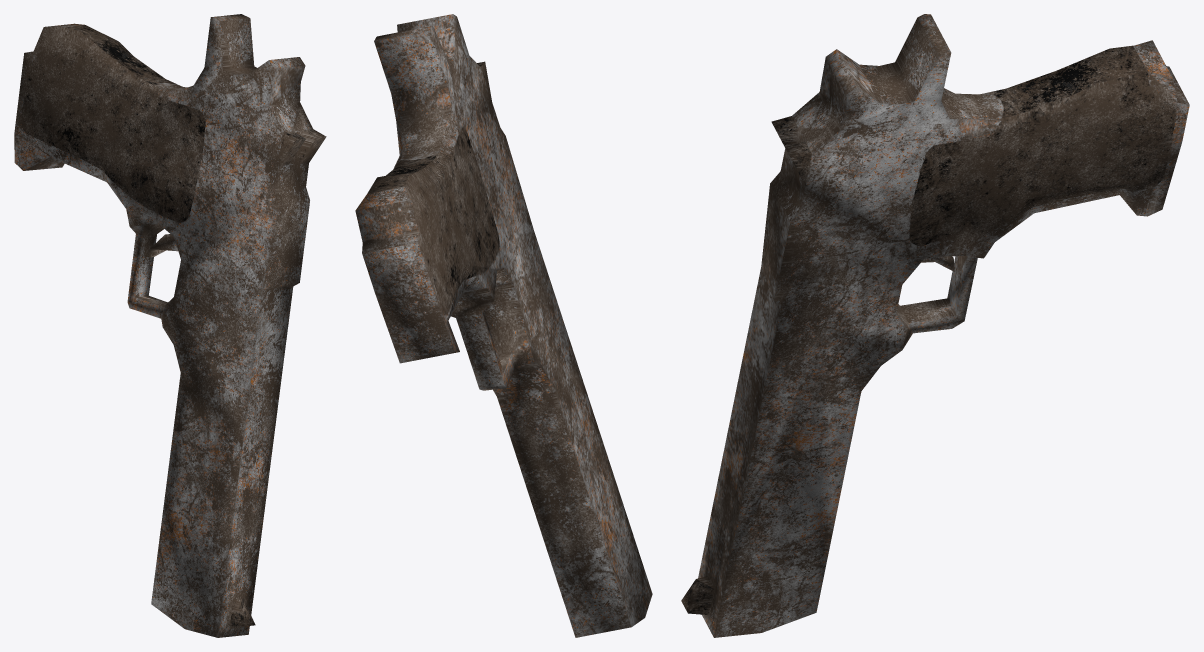
File: Anim_disparar_pistola_objetos.0033.obj
The picture shows the model from 3 angles, left to right: view 1: azimuth 30°, elevation 25°; view 2: azimuth 150°, elevation 25°; view 3: azimuth 270°, elevation 25°; orthographic projection. The views are drawn at different scales.
Parts seen in each view (by area): view 1: Pistola1; view 2: Pistola1; view 3: Pistola1.
Boxes of the visible parts, x1,y1,x2,y2 form: Pistola1: (14,14,326,637); Pistola1: (355,14,652,637); Pistola1: (681,14,1189,637).
Size of the model in its own units: 0.5613 by 1.67 by 1.17.
